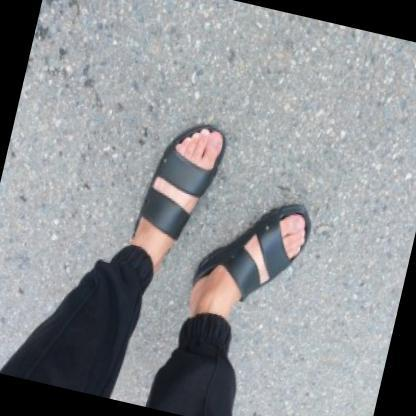no_safety-shoe: (98, 54, 241, 277), (170, 179, 342, 346)
